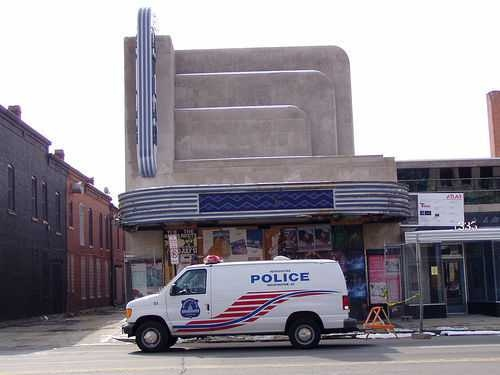Police Van: (114, 253, 362, 361)
